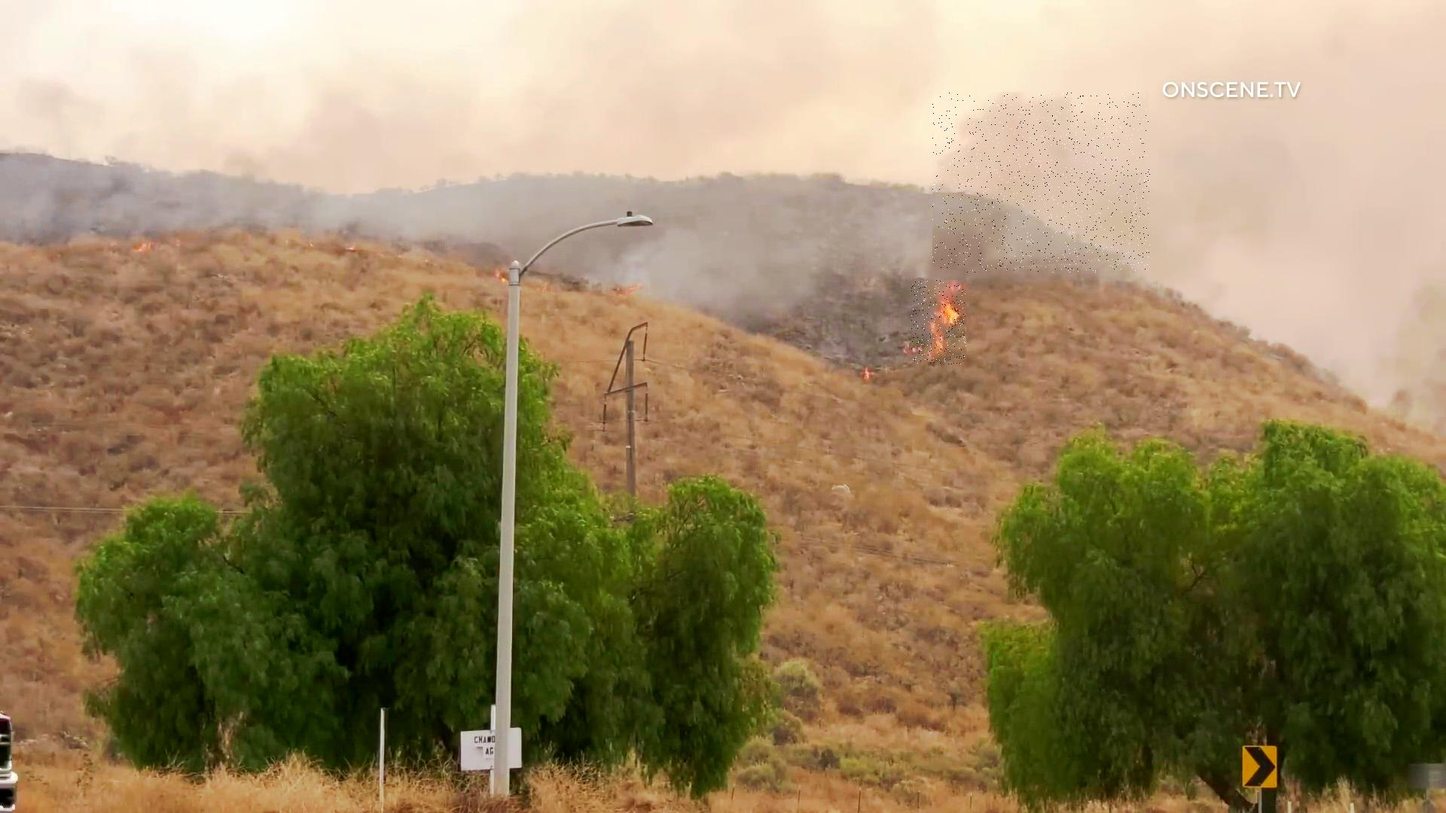fire: (911, 281, 966, 365)
smoke: (933, 92, 1150, 273)
